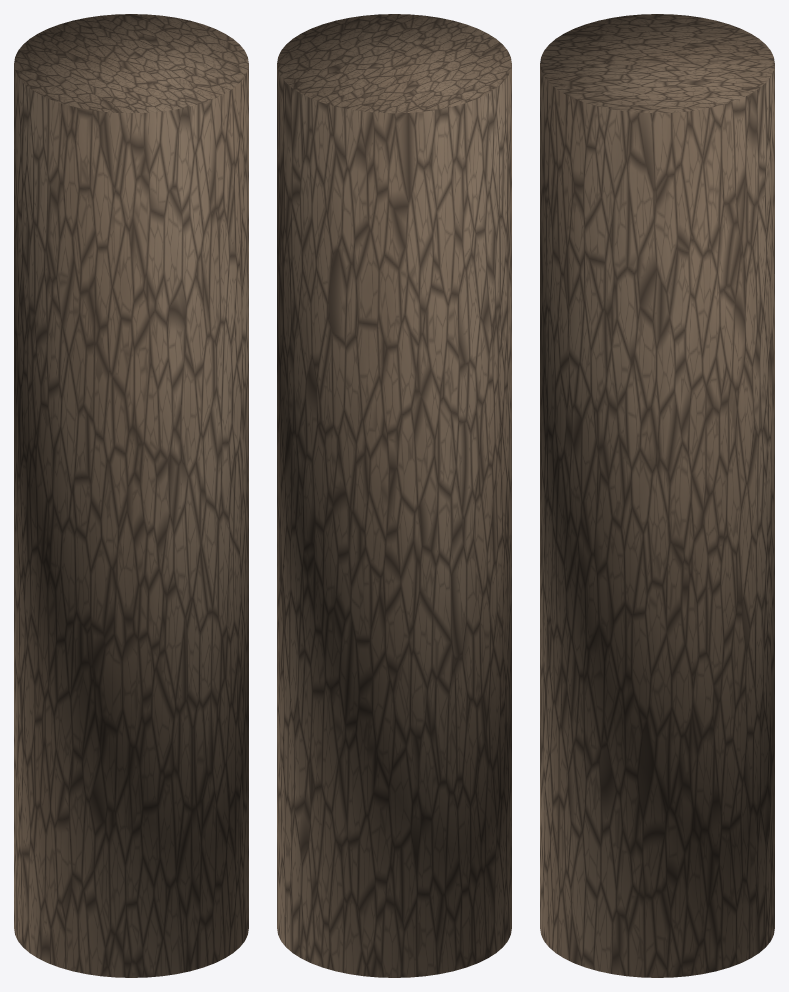
The model's file is bark_maple.glb.
The picture shows the model from 3 angles, left to right: view 1: azimuth 30°, elevation 25°; view 2: azimuth 150°, elevation 25°; view 3: azimuth 270°, elevation 25°; orthographic projection.
Parts seen in each view (by area): view 1: bark_maple_trunk; view 2: bark_maple_trunk; view 3: bark_maple_trunk.
Boxes of the visible parts, x1,y1,x2,y2 form: bark_maple_trunk: (14,14,248,977); bark_maple_trunk: (277,14,511,977); bark_maple_trunk: (540,14,774,977).
Bounding box in the file's own units: 0.64 × 2.6 × 0.64.
Materials: 1 (1 with a texture image).
